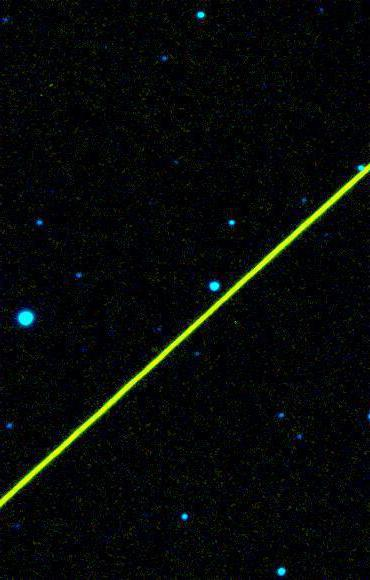star: (3, 509, 33, 539)
